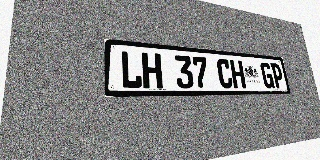3: (174, 55, 194, 89)
7: (191, 56, 210, 88)
C: (216, 58, 233, 88)
G: (260, 62, 275, 88)
H: (142, 52, 163, 89), (230, 60, 246, 88)
L: (120, 50, 142, 89)
P: (270, 63, 285, 88)
